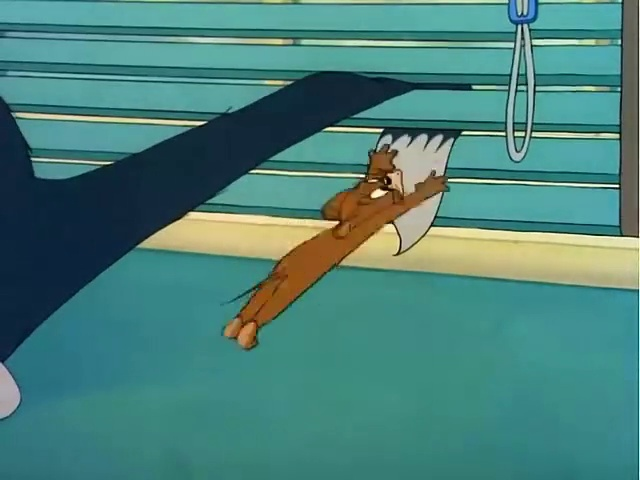jerry: (228, 131, 460, 376), (226, 169, 445, 376)
